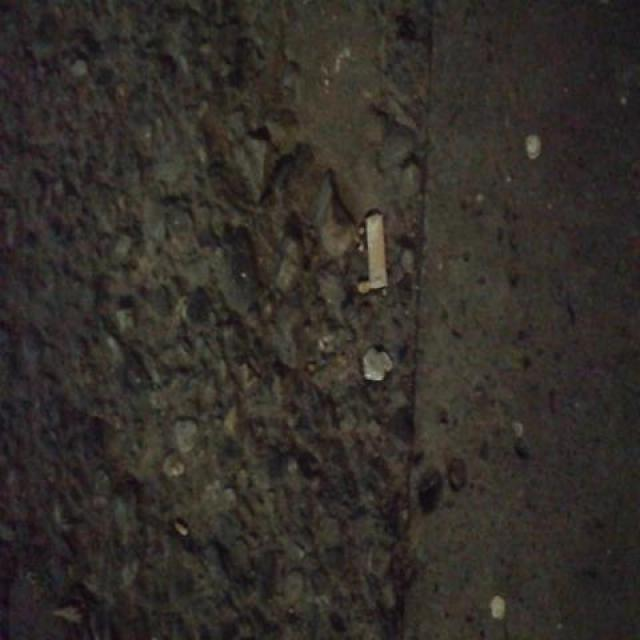non-organic waste: (361, 209, 391, 291)
